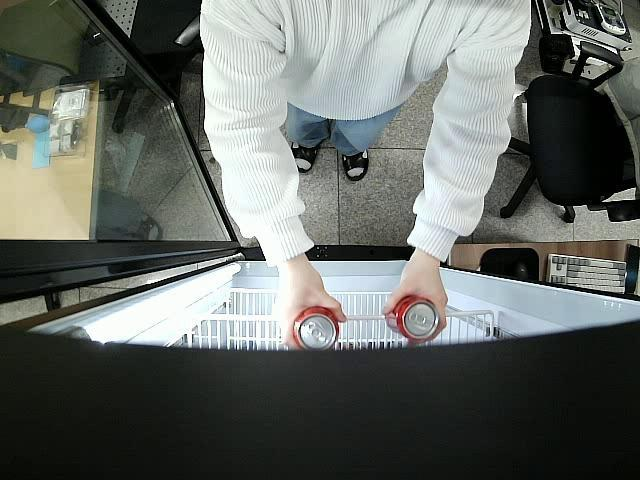11_cocaColaZero: (384, 296, 440, 341), (293, 306, 340, 352)
